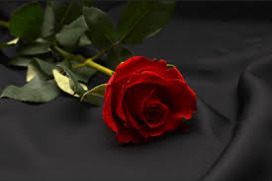RedRose: (97, 52, 200, 146)
